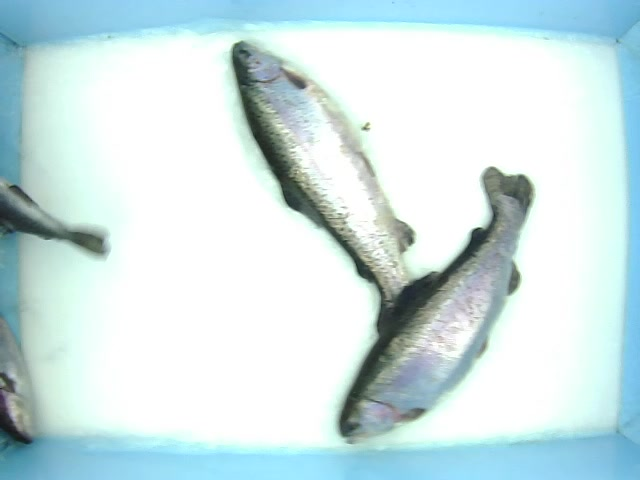fish: (337, 168, 562, 442), (210, 31, 420, 286)
